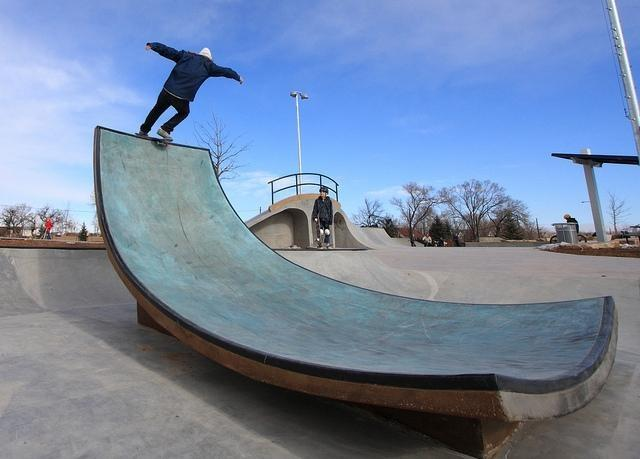bicycle: (550, 234, 586, 244)
